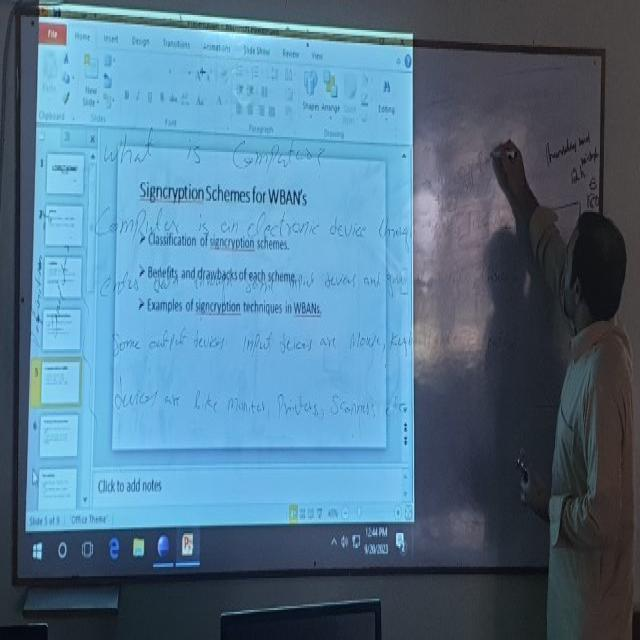Instructor: (535, 172, 635, 627)
Slide: (24, 1, 415, 566)
White-board: (15, 11, 605, 584)
